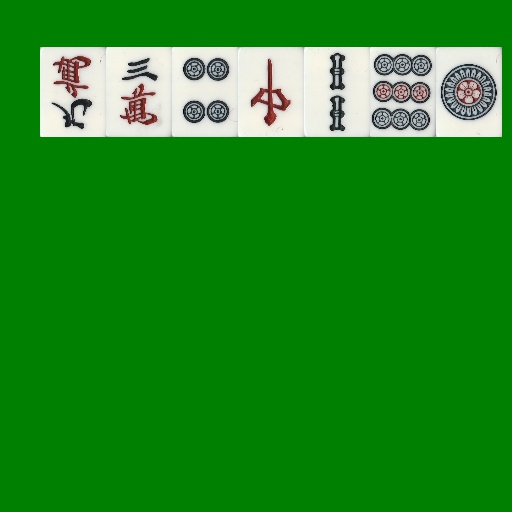1p: (436, 47, 502, 137)
2s: (304, 47, 370, 137)
3m: (106, 47, 172, 137)
4p: (172, 47, 238, 137)
9m: (40, 47, 106, 137)
9p: (370, 47, 436, 137)
tyun: (238, 47, 304, 137)
